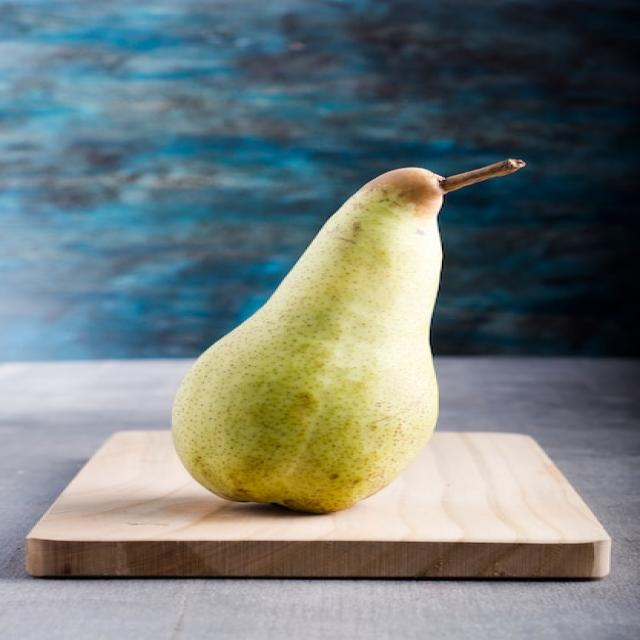pera: (152, 126, 553, 522)
